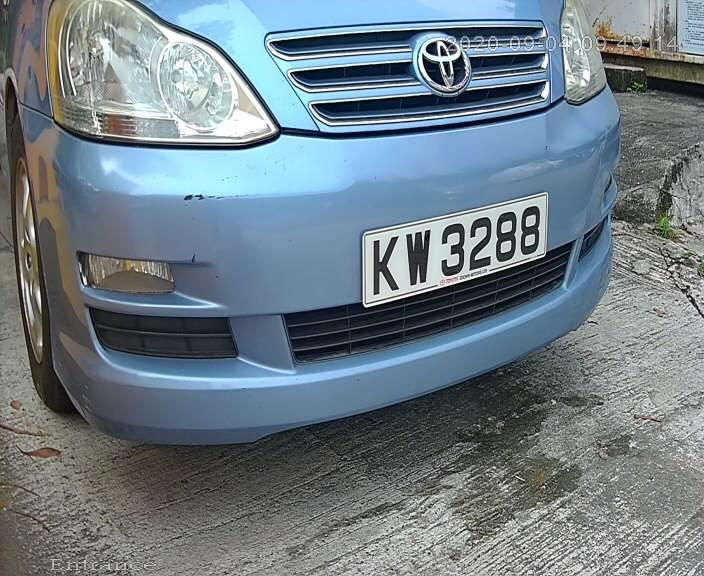License Plate: (355, 188, 552, 320)
